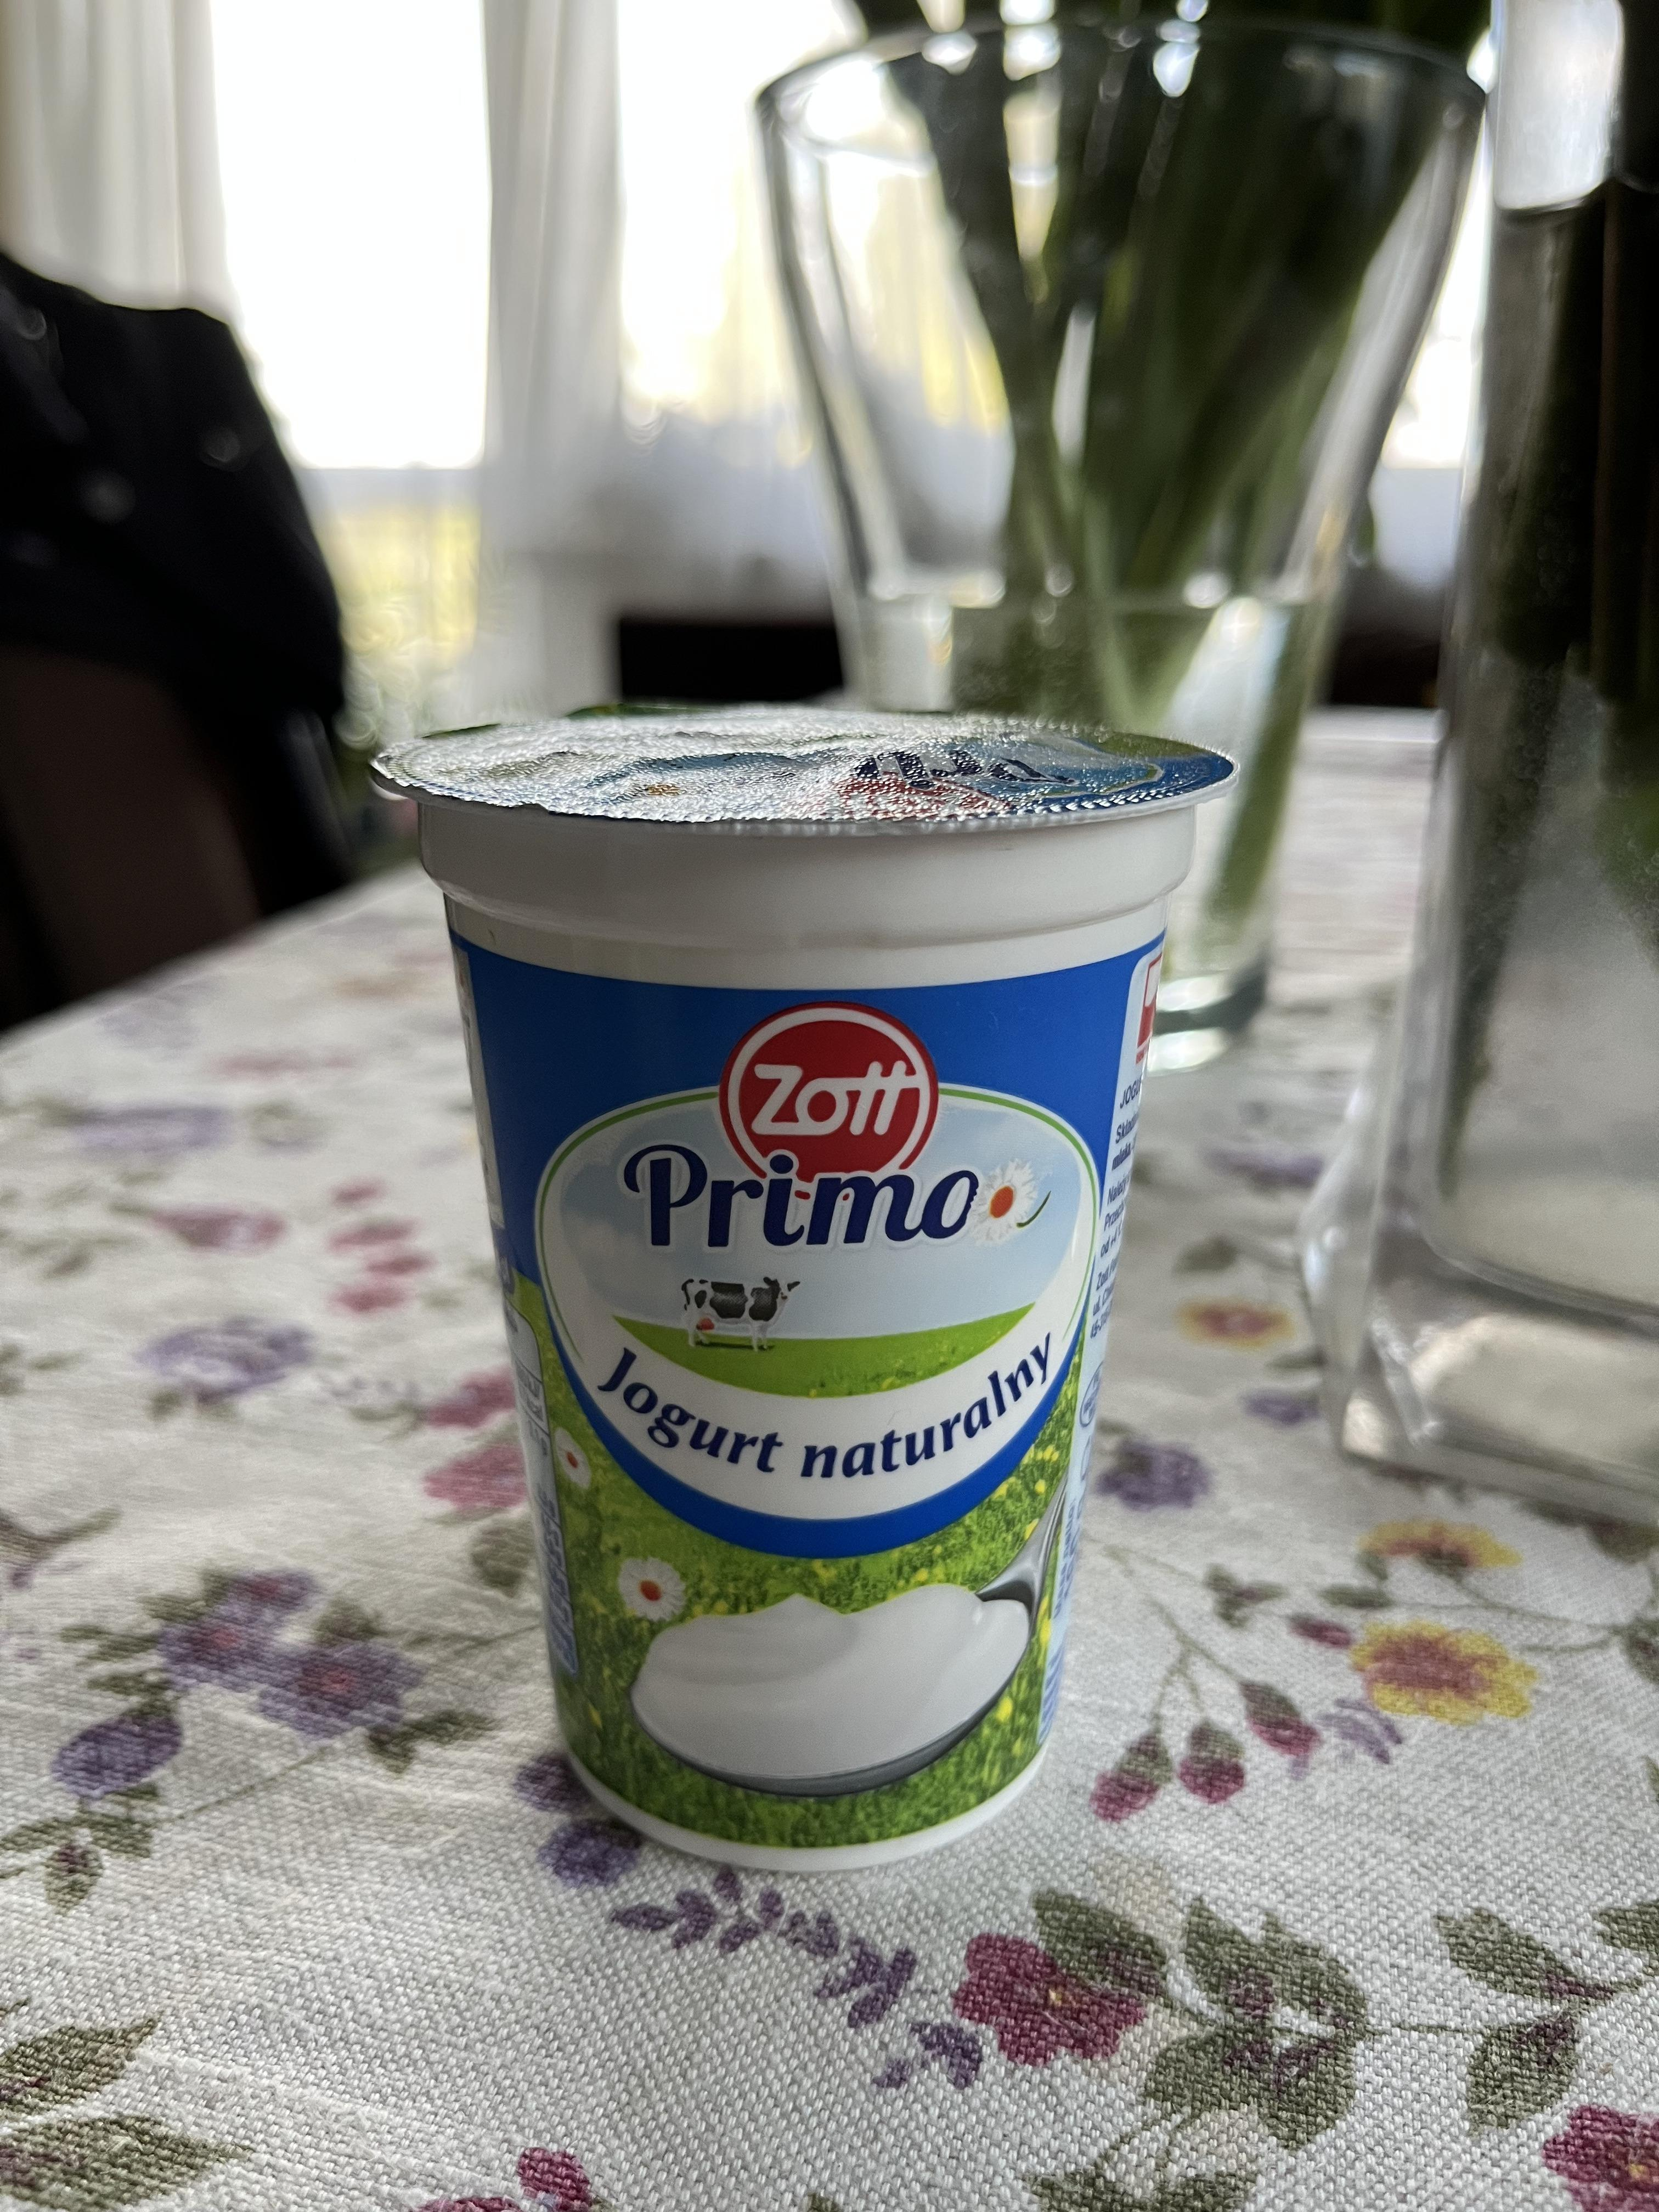Yogurt: (462, 711, 1145, 1865)
